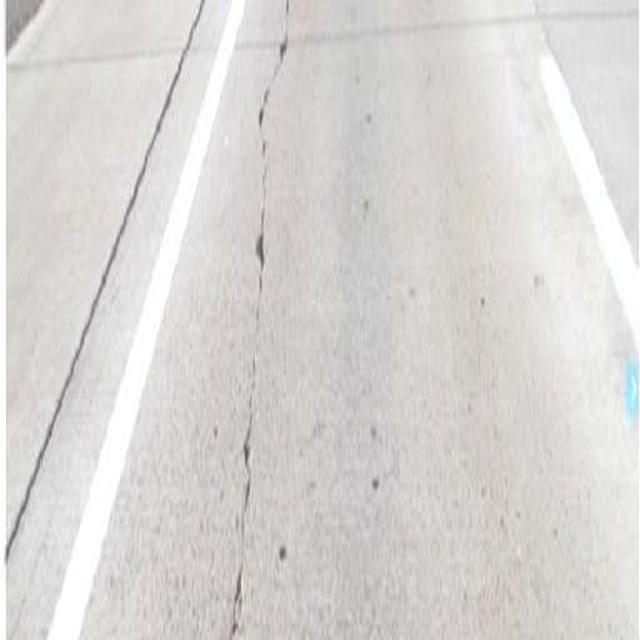Crack: (228, 29, 289, 638)
